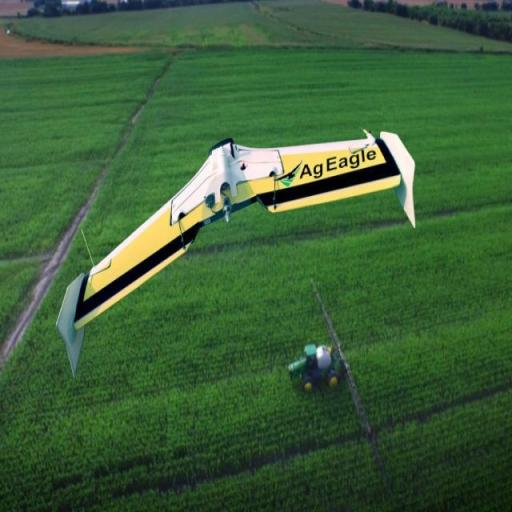uav: (44, 118, 425, 398)
